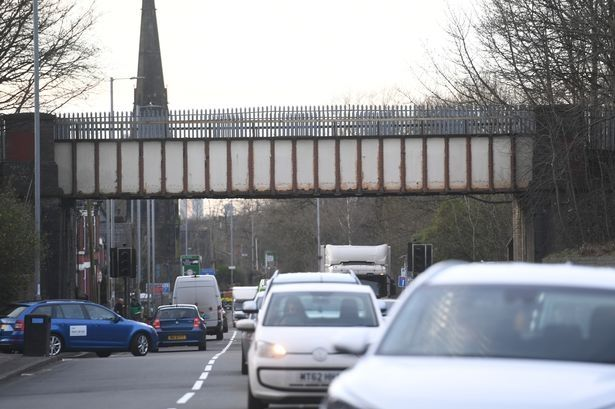bridge: (5, 104, 590, 199)
